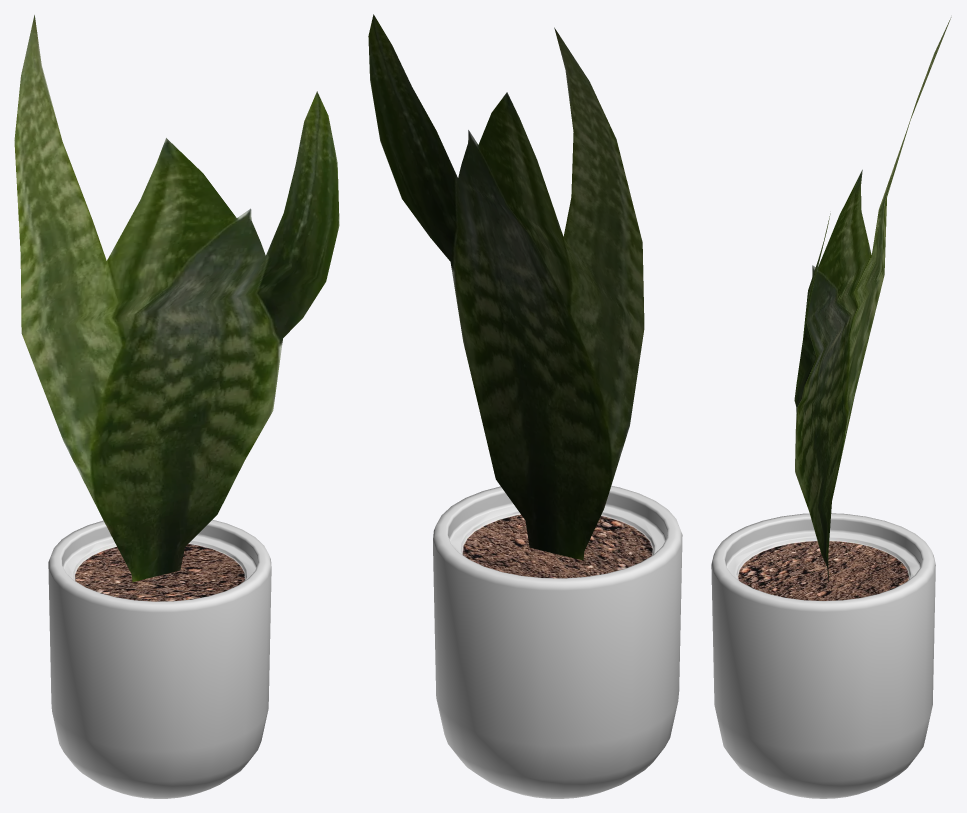
File: sf-snake-plant-white.glb
3 views of the same model, side by side, from view 1: azimuth 30°, elevation 25°; view 2: azimuth 150°, elevation 25°; view 3: azimuth 270°, elevation 25° (orthographic). The views are drawn at different scales.
Parts seen in each view (by area): view 1: Object_4; view 2: Object_4; view 3: Object_4.
Part boxes in pixels (x1,y1,x2,y2): Object_4: (14, 15, 339, 798); Object_4: (368, 14, 682, 798); Object_4: (711, 17, 951, 798).
Bounding box in the file's own units: 0.2816 × 0.7 × 0.2089.
1 material, 1 textured.
